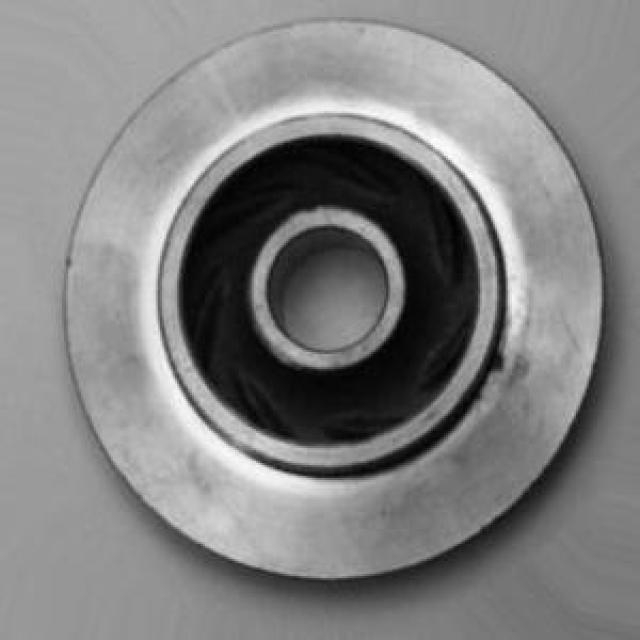Defect: (485, 349, 510, 381)
